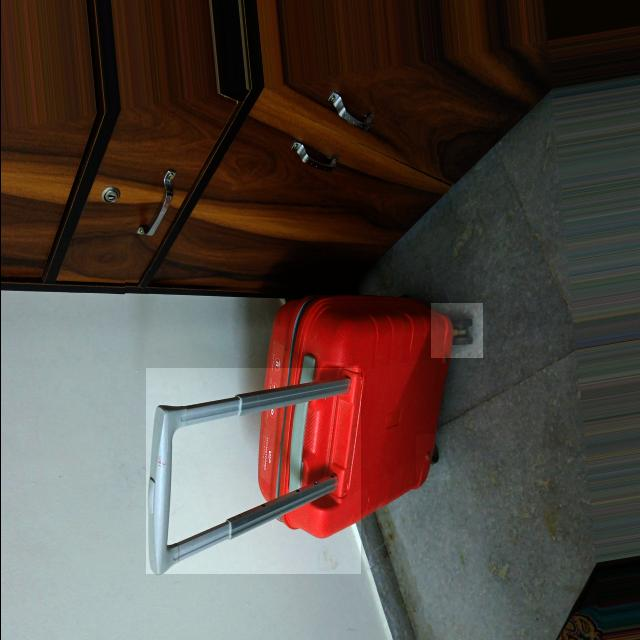Bag: (138, 291, 474, 567)
Handle: (149, 367, 350, 572)
